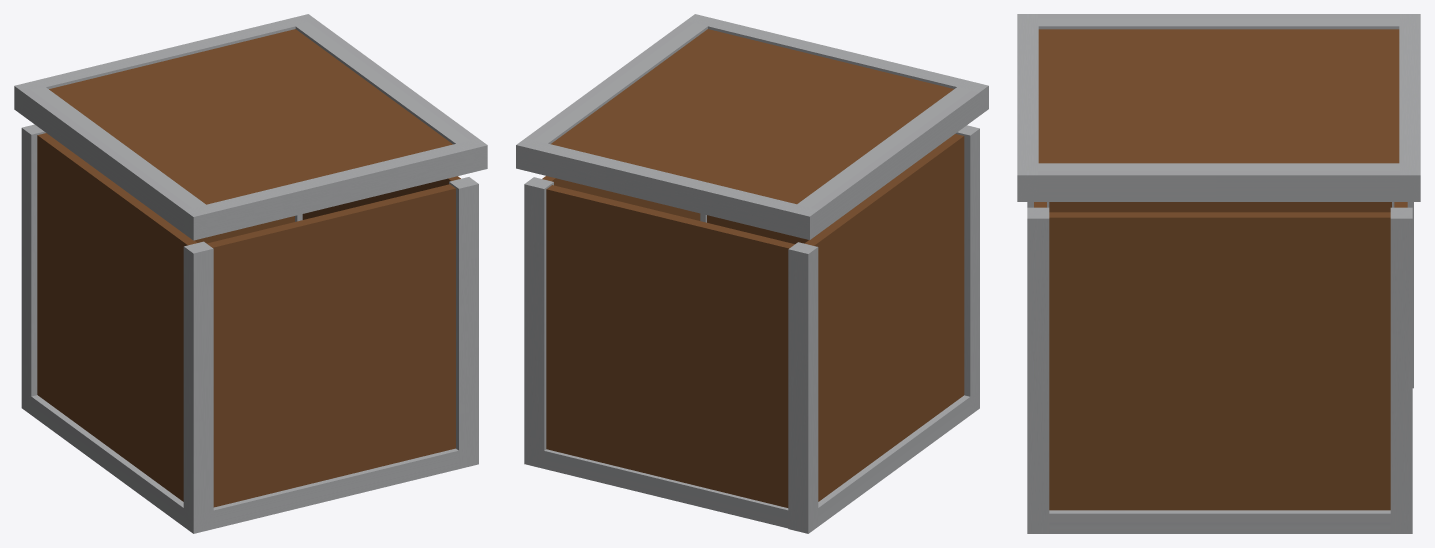
The model's file is CrateWithLidImproved.fbx.
3 views of the same model, side by side, from view 1: azimuth 30°, elevation 25°; view 2: azimuth 150°, elevation 25°; view 3: azimuth 270°, elevation 25° (orthographic). The views are drawn at different scales.
Parts seen in each view (by area): view 1: Cube, Cube.002, Cube.005, Cube.004; view 2: Cube, Cube.002, Cube.005, Cube.004; view 3: Cube, Cube.002, Cube.004, Cube.005.
Boxes of the visible parts, <box> form: Cube: <box>37,133,460,507</box>; Cube.002: <box>49,29,452,204</box>; Cube.005: <box>21,124,478,533</box>; Cube.004: <box>14,14,487,240</box>; Cube: <box>542,134,964,507</box>; Cube.002: <box>551,29,953,204</box>; Cube.005: <box>524,125,979,533</box>; Cube.004: <box>516,14,988,239</box>; Cube: <box>1034,202,1407,510</box>; Cube.002: <box>1038,29,1399,163</box>; Cube.004: <box>1017,14,1420,201</box>; Cube.005: <box>1027,202,1413,533</box>.
Size of the model in its own units: 613 by 639 by 647.
